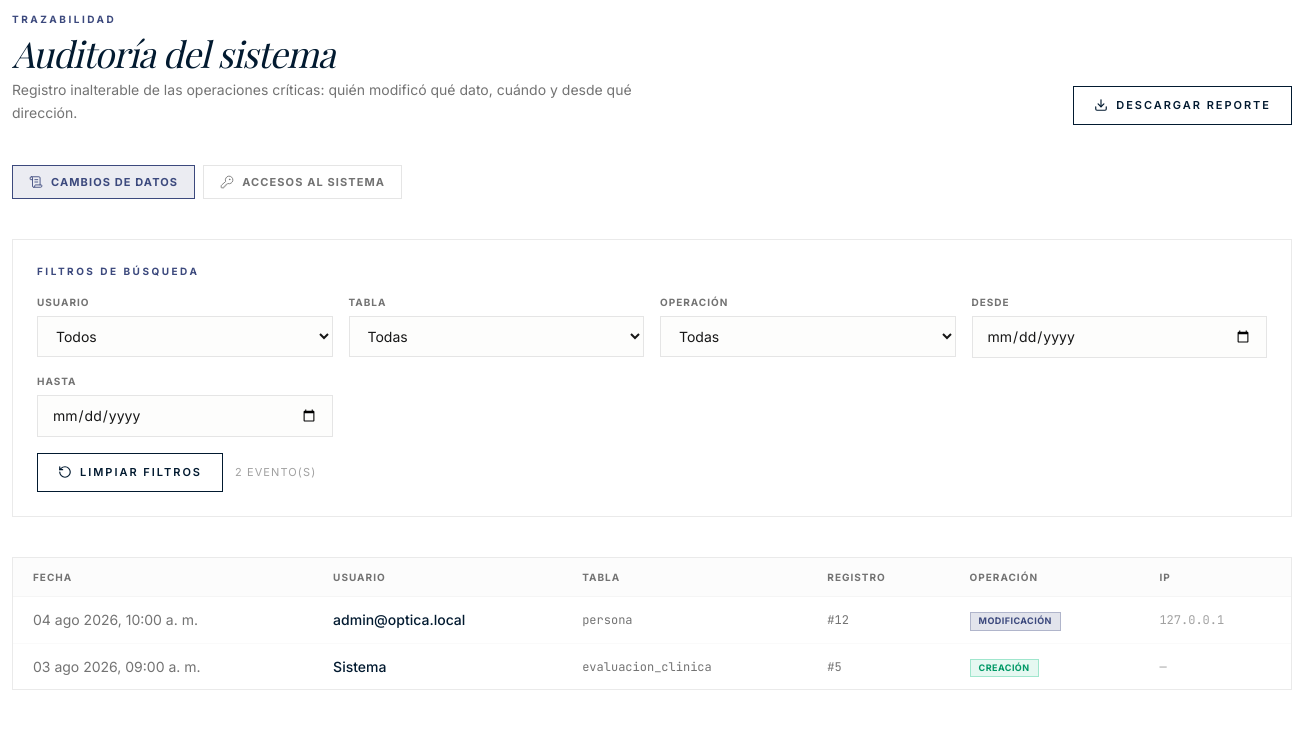
AuditoriaPage › 4. Bitácora de accesos › Cambiar de vista consulta los accesos y marca el intento fallido
Click the button "Accesos al sistema".
click(303, 182)  # box [203,164,402,199]
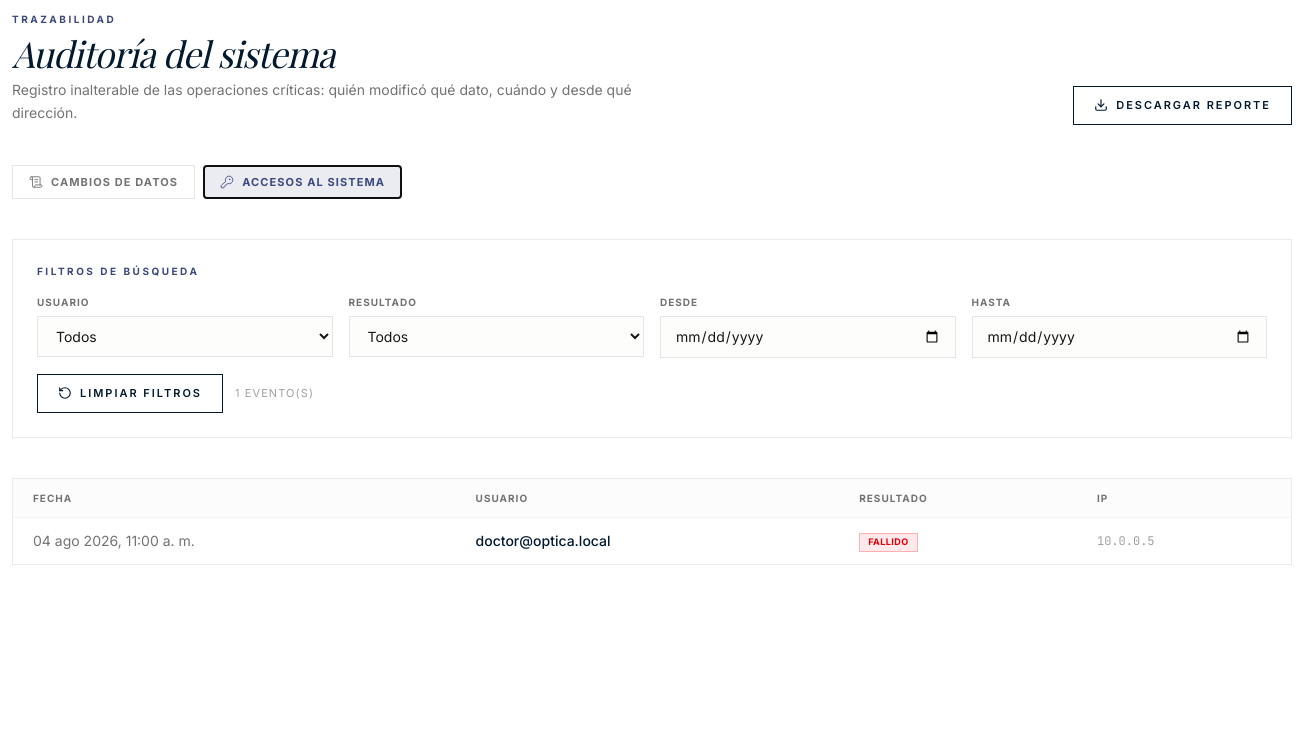
Result: the text "Fallido" is shown at [859,533,918,552]
Result: the text "doctor@optica.local" is shown at [456,517,839,564]
